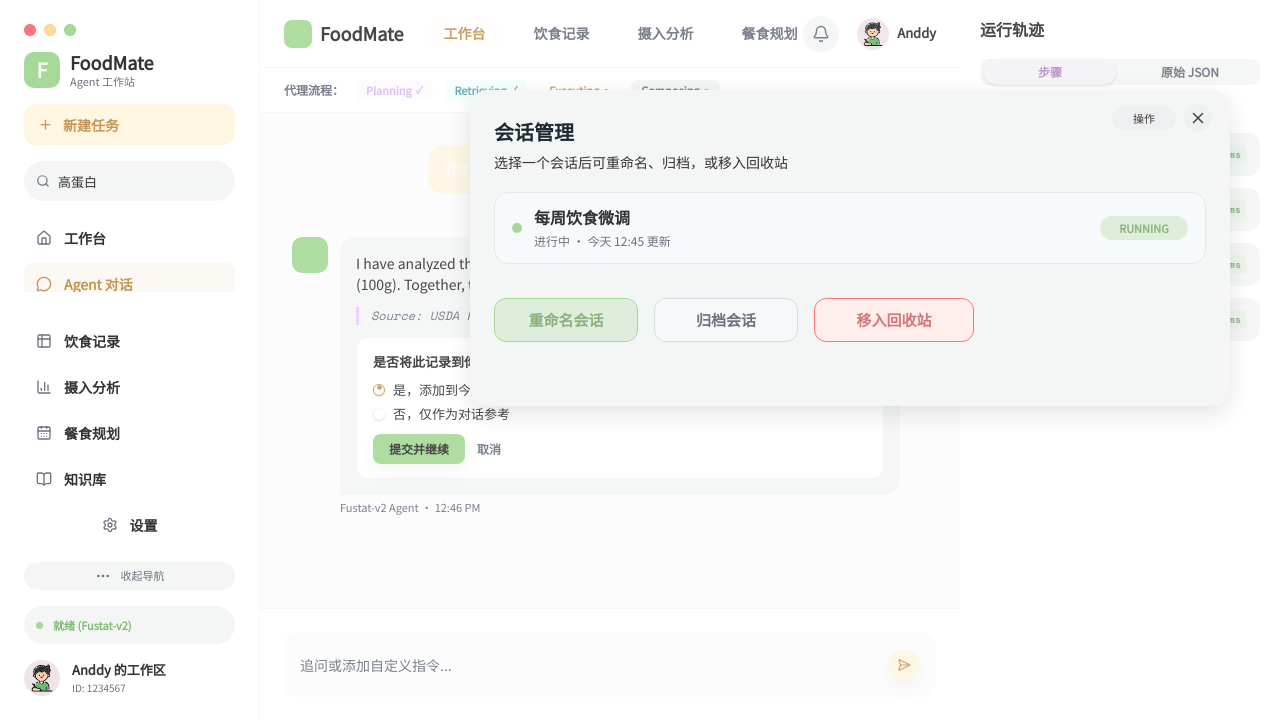
it: ChatPage Figma session operation fixtures › renders the session management panel over the complete conversation
The image size is (1280, 720).
expect the dialog "会话管理" is shown: met, box [470,90,1230,406]
expect the button "重命名会话" is shown: met, box [494,298,638,342]
Step 1. Click the button named "关闭会话管理" → (1198, 118), box [1184,104,1212,132]
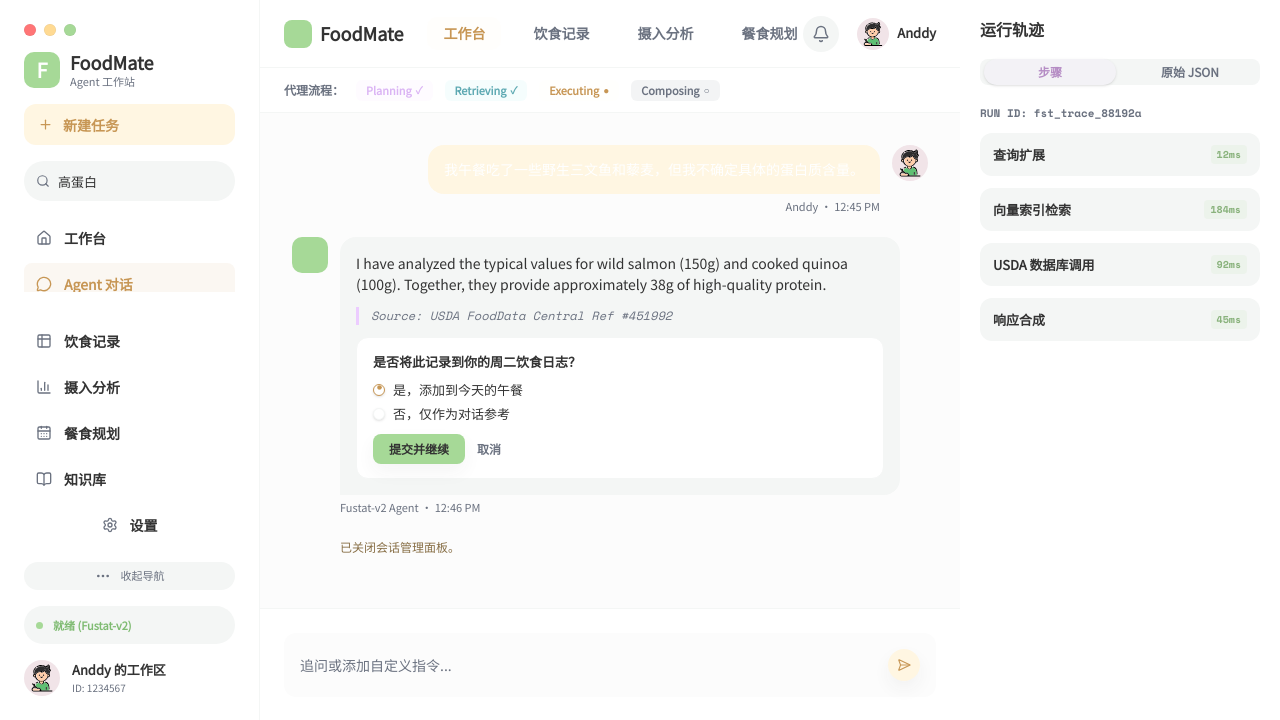
expect the message reads "已关闭会话管理面板。": met, box [340,538,460,555]
